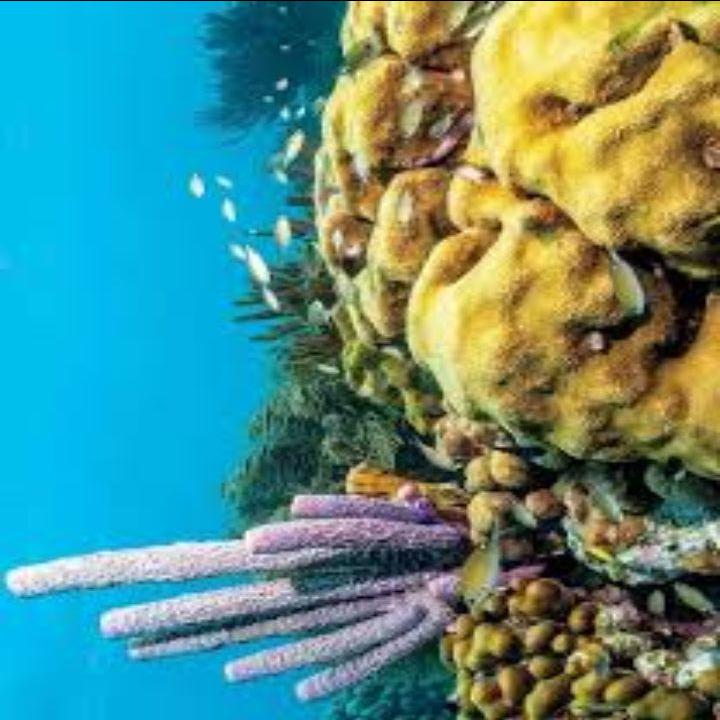Healthy Coral: (281, 15, 696, 451), (460, 480, 646, 704)
